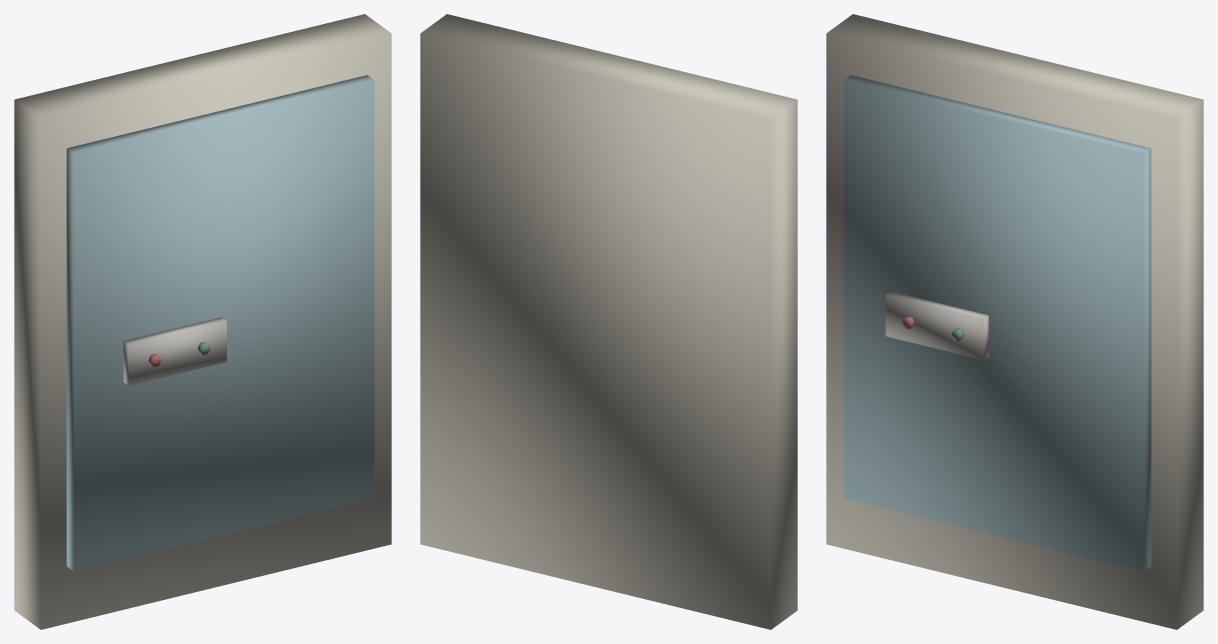
File: x_ray_lightbox__compact.glb
3 renders of one model, left to right at view 1: azimuth 30°, elevation 25°; view 2: azimuth 150°, elevation 25°; view 3: azimuth 330°, elevation 25°, orthographic.
Parts seen in each view (by area): view 1: world; view 2: world; view 3: world.
Boxes of the visible parts, x1,y1,x2,y2 form: world: (14, 14, 391, 629); world: (420, 14, 797, 629); world: (826, 14, 1203, 629).
Size of the model in its own units: 0.588 by 0.8184 by 0.1277.
